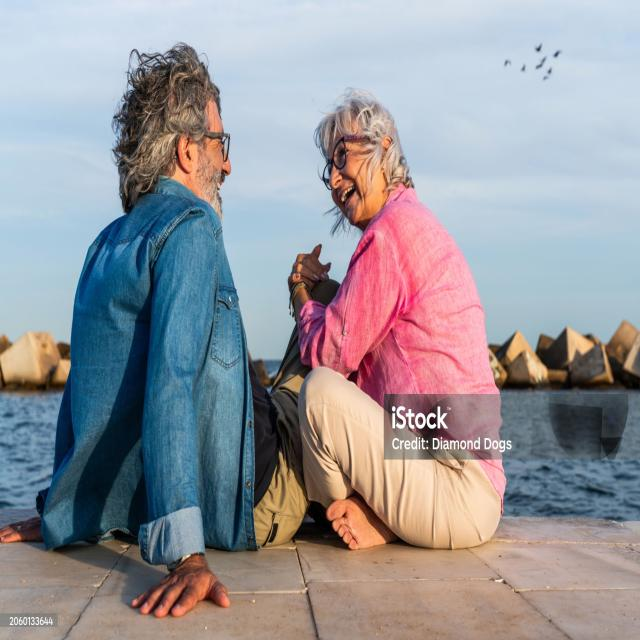Real human 2: (34, 34, 516, 570)
